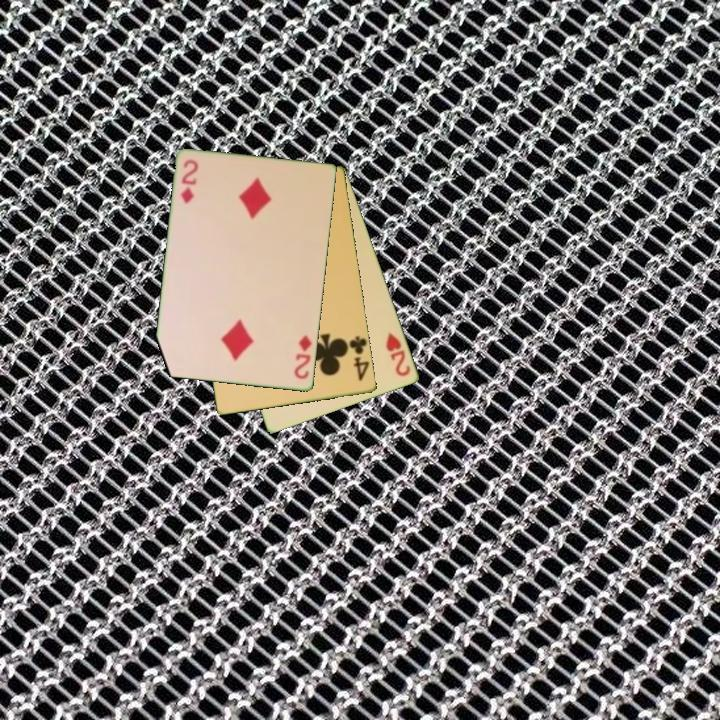2d: (291, 332, 315, 382), (178, 156, 201, 207)
2h: (383, 329, 414, 380)
4c: (346, 332, 372, 384)
